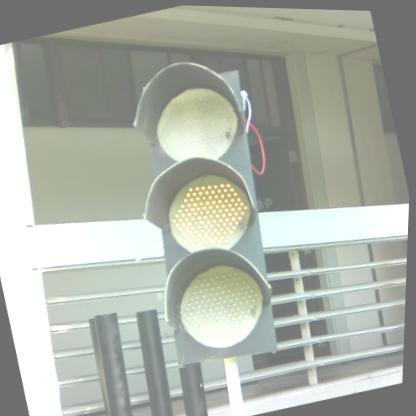yellow: (102, 47, 304, 372)
